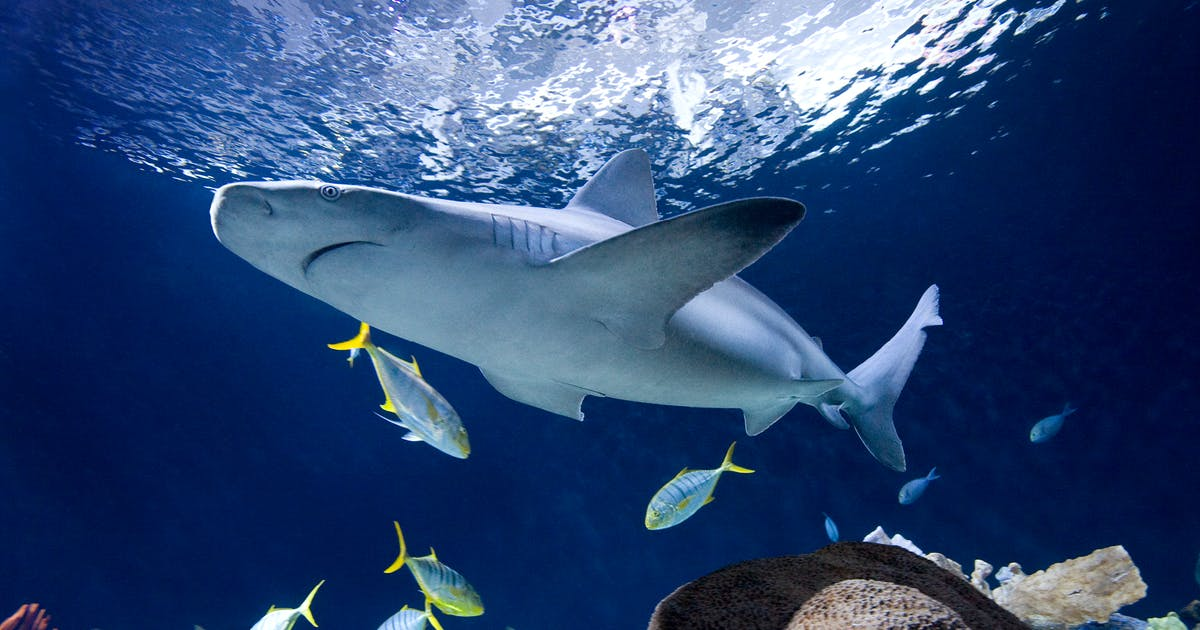shark: (203, 134, 953, 481)
